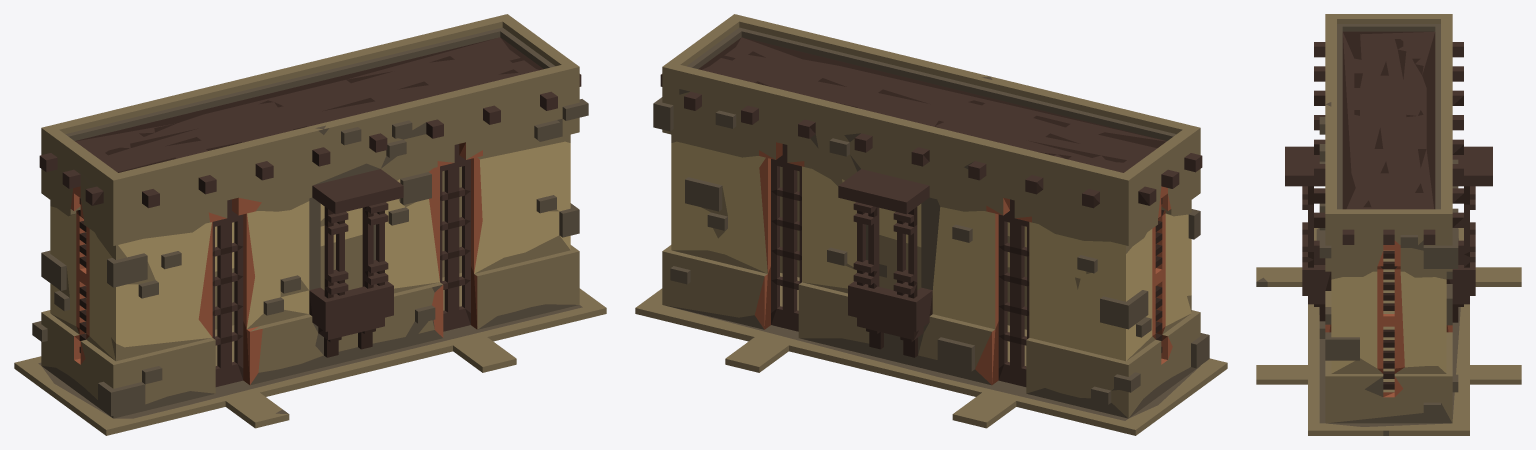
File: largeBuilding.obj
The picture shows the model from 3 angles, left to right: view 1: azimuth 30°, elevation 25°; view 2: azimuth 150°, elevation 25°; view 3: azimuth 270°, elevation 25°; orthographic projection. The views are drawn at different scales.
Visible parts, largest first — view 1: Untitled; view 2: Untitled; view 3: Untitled.
Part boxes in pixels (<box>): Untitled: <box>14,14,606,435</box>; Untitled: <box>635,14,1227,435</box>; Untitled: <box>1256,14,1521,435</box>.
Bounding box in the file's own units: 8.8 × 4.1 × 4.6.
